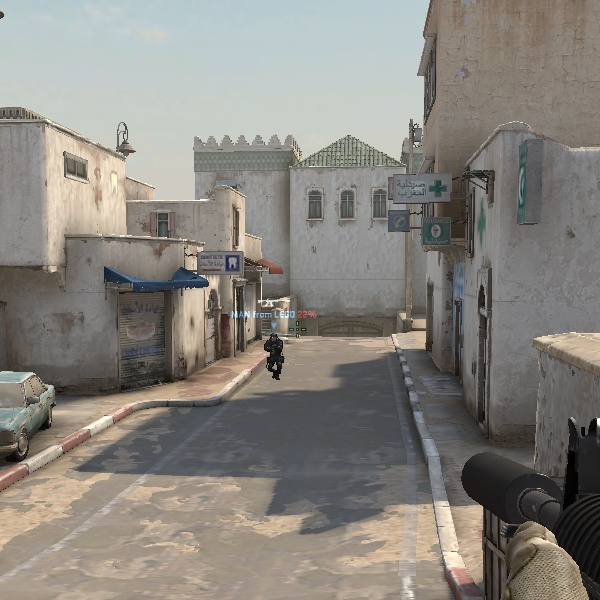ct_body: (261, 330, 288, 381)
ct_head: (270, 333, 278, 346)
